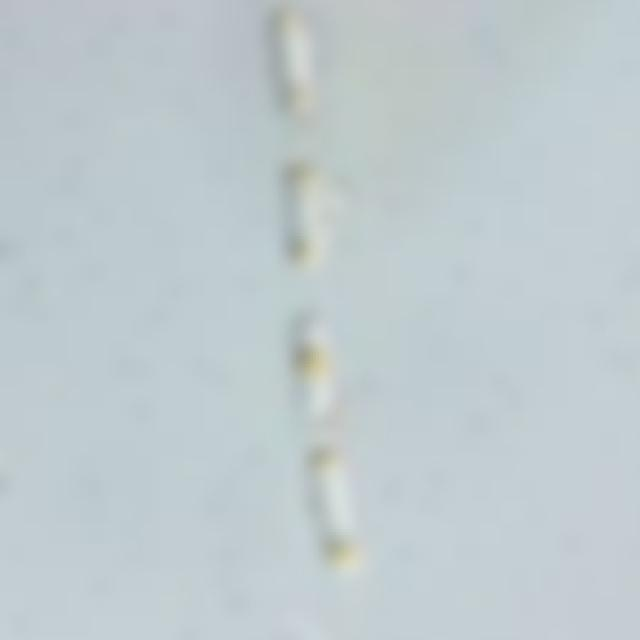Skeletonema: (269, 9, 379, 586)
